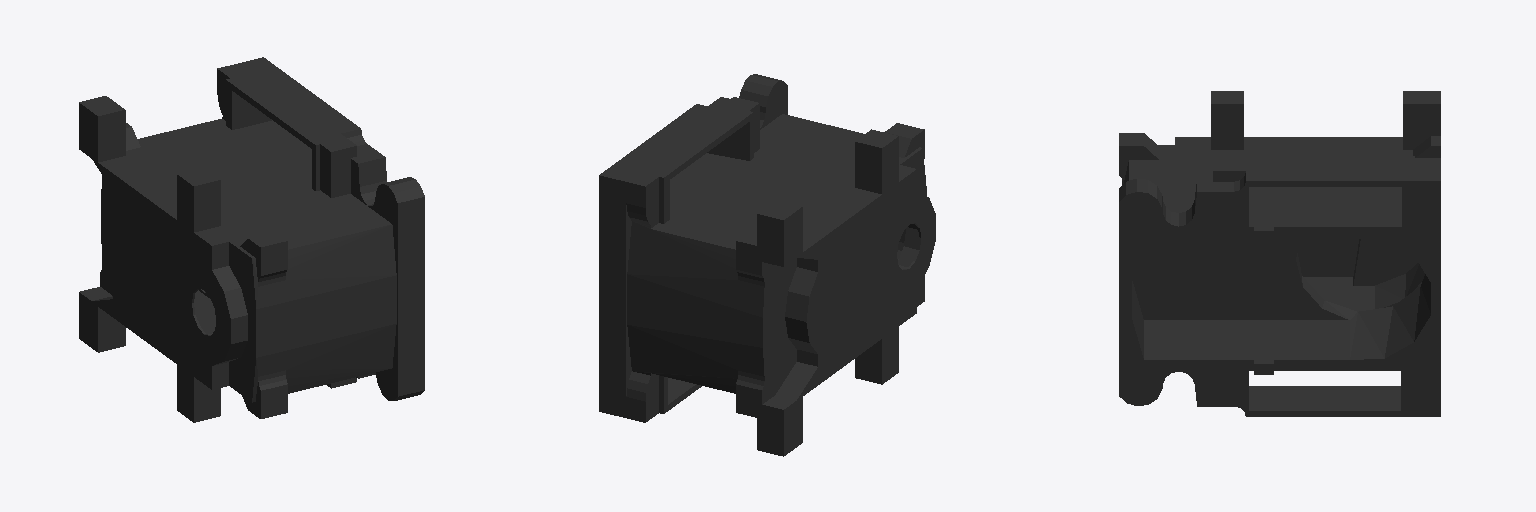
The model's file is Elbow_Bracket_01_1__1_mesh_3.obj.
3 renders of one model, left to right at view 1: azimuth 30°, elevation 25°; view 2: azimuth 150°, elevation 25°; view 3: azimuth 270°, elevation 25°, orthographic.
Size of the model in its own units: 0.0282 by 0.033 by 0.0408.